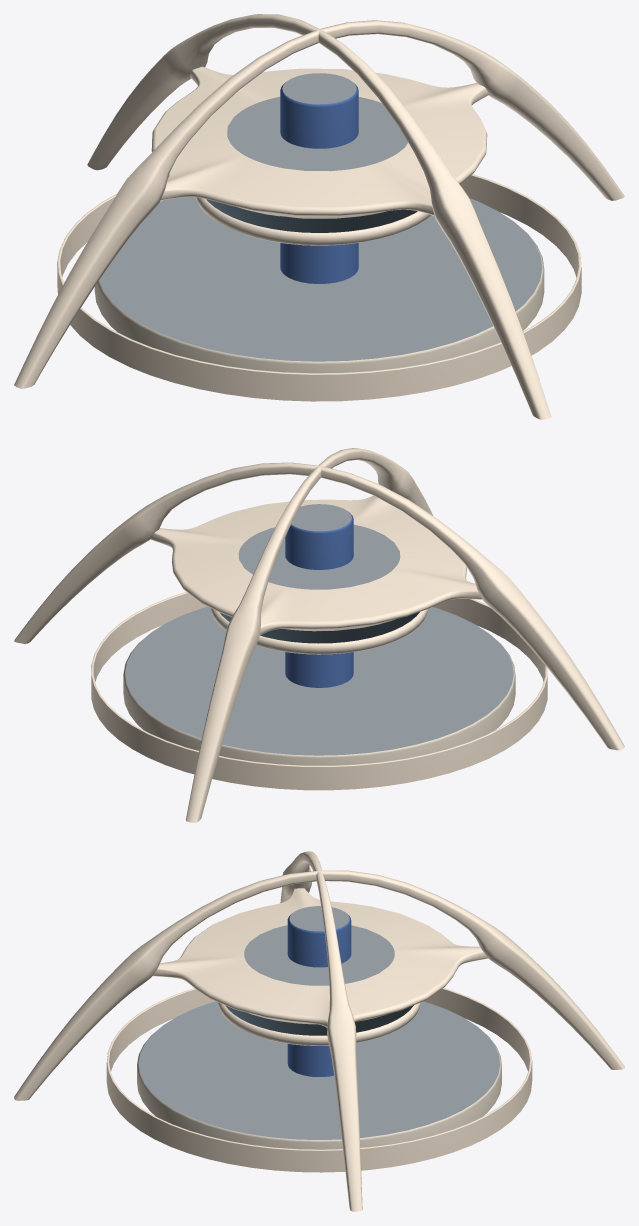
3 views of the same model, one above another, from view 1: azimuth 30°, elevation 25°; view 2: azimuth 150°, elevation 25°; view 3: azimuth 270°, elevation 25° (orthographic). The views are drawn at different scales.
Parts seen in each view (by area): view 1: theme-building; view 2: theme-building; view 3: theme-building.
Boxes of the visible parts, bbox=[...] form: theme-building: bbox=[14, 14, 624, 419]; theme-building: bbox=[14, 448, 624, 822]; theme-building: bbox=[14, 851, 624, 1211].
Bounding box in the file's own units: 105 × 40.3 × 105.
